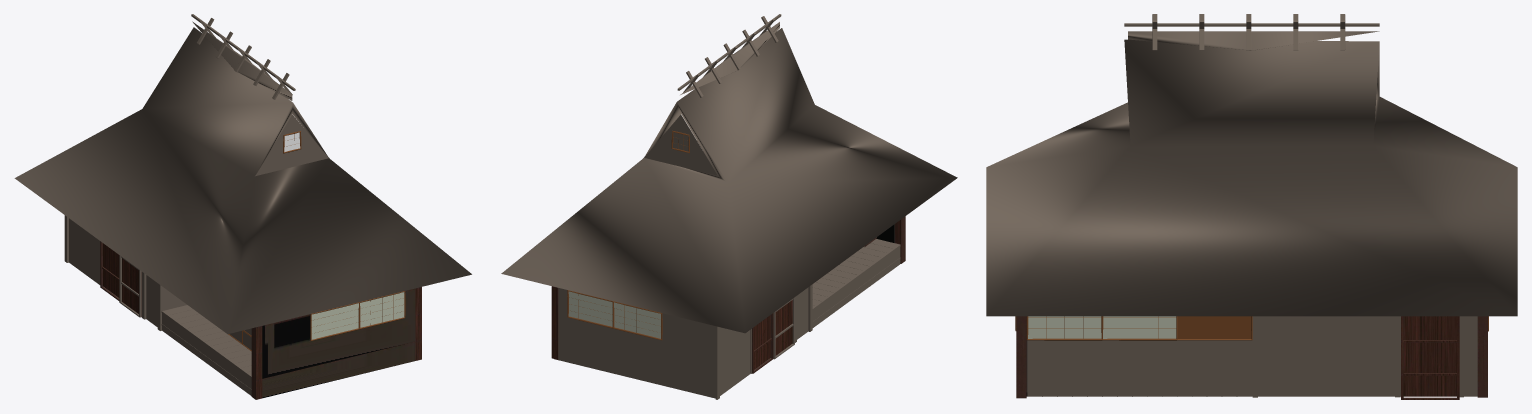
3 renders of one model, left to right at view 1: azimuth 30°, elevation 25°; view 2: azimuth 150°, elevation 25°; view 3: azimuth 270°, elevation 25°, orthographic. The views are drawn at different scales.
Parts seen in each view (by area): view 1: kayabuki-2kai; view 2: kayabuki-2kai; view 3: kayabuki-2kai.
Part boxes in pixels (left/top/right/bottom): kayabuki-2kai: left=14, top=14, right=471, bottom=399; kayabuki-2kai: left=501, top=14, right=957, bottom=399; kayabuki-2kai: left=986, top=14, right=1517, bottom=399.
Size of the model in its own units: 7.17 by 7.41 by 10.81.
Materials: 1 (1 with a texture image).
